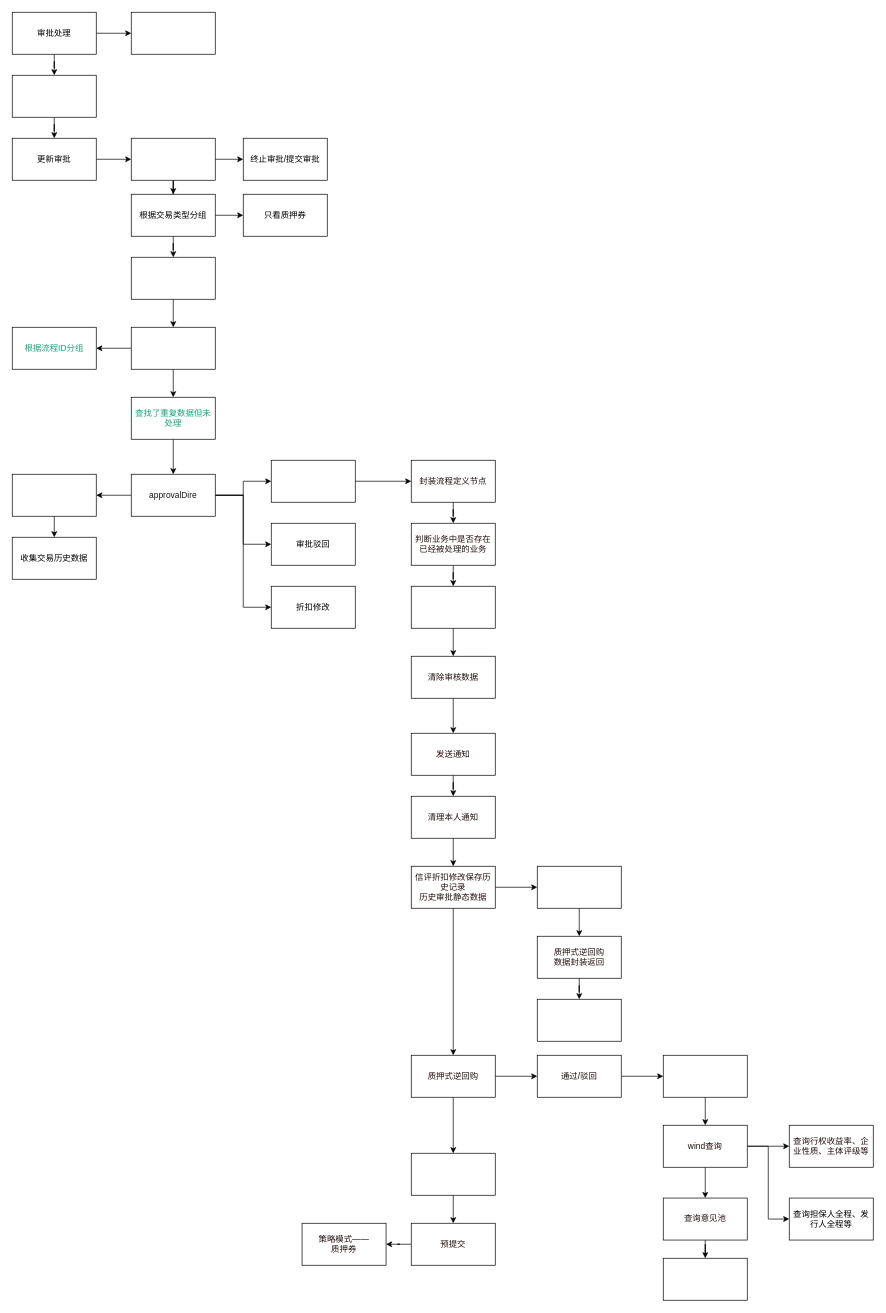
This 886x1313 diagram has some shape labels left out. The shapes that lost their labels are listed below. From the top down, each one's centre as x and y in pixels, then its label:
point 173,33: /transaApproval/updateApproval
point 54,96: 排序
point 173,159: 审批类型处理
point 173,278: 查询交易历史数据
point 173,348: 查询当前人员所处的审批节点
point 54,495: 收集交易ID
point 313,481: 审批通过
point 453,607: 调用流程下一步 更改审批节点状态
point 579,887: 查询流程历史数据
point 579,1020: 信评逆回购债券折扣历史记录 移除&批量保存
point 705,1076: 不存在债券信息——入库，返回
point 453,1174: 保存审批所需的标记信息
point 705,1279: 数据封装；入库
